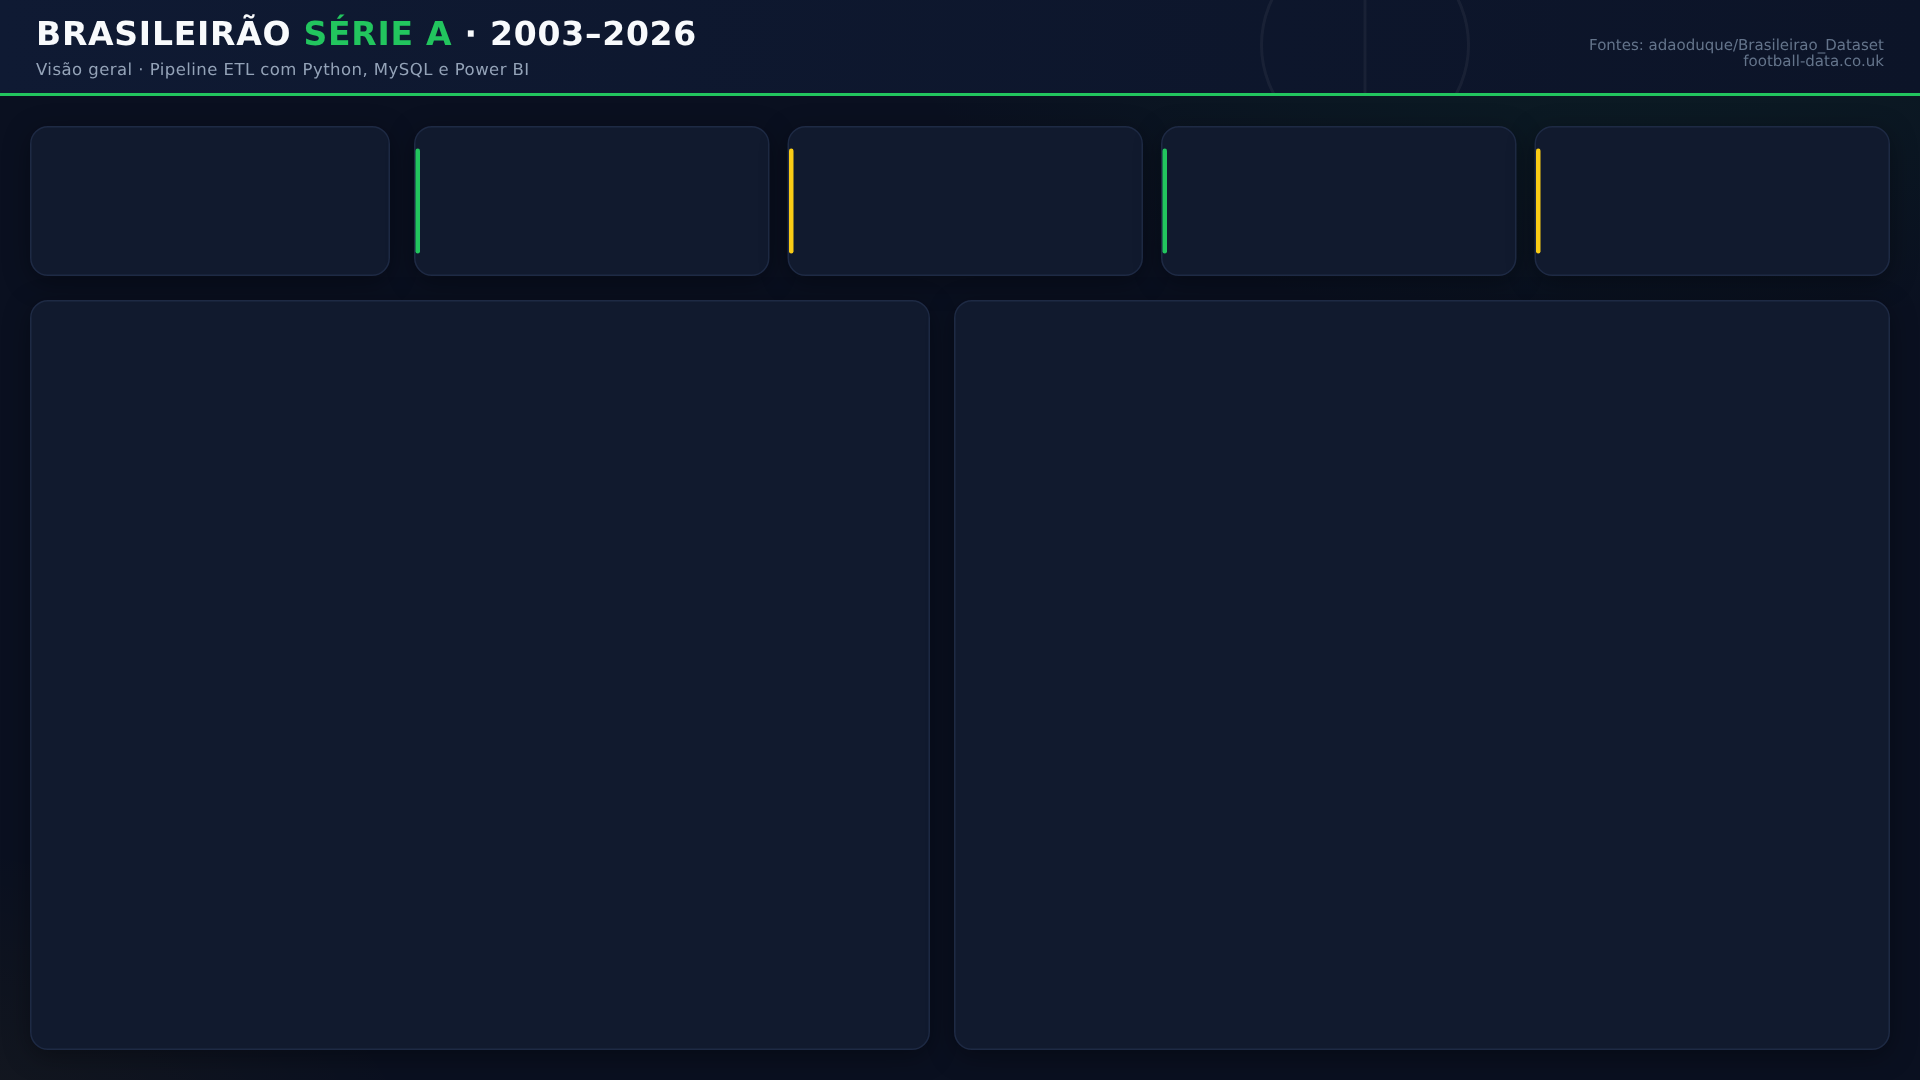

Layout of this report page (visuals, bound fields, positions):
{"tool":"powerbi","page":{"name":"Página 1","canvas":[1920,1080],"ordinal":0},"visuals":[{"type":"slicer","fields":{"Values":["dim_temporada.ano_temporada"]},"box":[26.2,152.4,364.3,123.8],"z":0},{"type":"cardVisual","fields":{"Data":["fato_partida.Partidas"]},"box":[426.2,119,352.4,157.1],"z":1000},{"type":"cardVisual","fields":{"Data":["fato_partida.Gols"]},"box":[800,119,347.6,157.1],"z":2000},{"type":"cardVisual","fields":{"Data":["fato_partida.Média de Gols por Jogo"]},"box":[1552.4,119,338.1,157.1],"z":3000},{"type":"cardVisual","fields":{"Data":["fato_partida.% Vitórias do Mandante"]},"box":[1176.2,119,342.9,157.1],"z":4000},{"type":"lineChart","title":"Média de Gols por Jogo ","fields":{"Category":["dim_temporada.ano_temporada"],"Y":["fato_partida.Média de Gols por Jogo"]},"box":[26.2,302.4,902.4,740.5],"z":5000},{"type":"tableEx","title":"Tabela de Classificação","fields":{"Values":[" vw_classificacao.posicao"," vw_classificacao.clube","Sum( vw_classificacao.pontos)","Sum( vw_classificacao.jogos)","Sum( vw_classificacao.vitorias)","Sum( vw_classificacao.empates)","Sum( vw_classificacao.derrotas)","Sum( vw_classificacao.saldo_gols)","Sum( vw_classificacao.aproveitamento_pct)"]},"box":[960.4,294.4,960.4,749.9],"z":6000}]}

Visuals, with their boxes in screenshot pixels (x1, y1, x2, y2), scaled from the page's 1920x1080 canvas onto the 1920x1080 screenshot:
slicer - dim_temporada.ano_temporada: <region>26, 152, 390, 276</region>
cardVisual - fato_partida.Partidas: <region>426, 119, 779, 276</region>
cardVisual - fato_partida.Gols: <region>800, 119, 1148, 276</region>
cardVisual - fato_partida.Média de Gols por Jogo: <region>1552, 119, 1890, 276</region>
cardVisual - fato_partida.% Vitórias do Mandante: <region>1176, 119, 1519, 276</region>
"Média de Gols por Jogo " lineChart: <region>26, 302, 929, 1043</region>
"Tabela de Classificação" tableEx: <region>960, 294, 1919, 1044</region>
